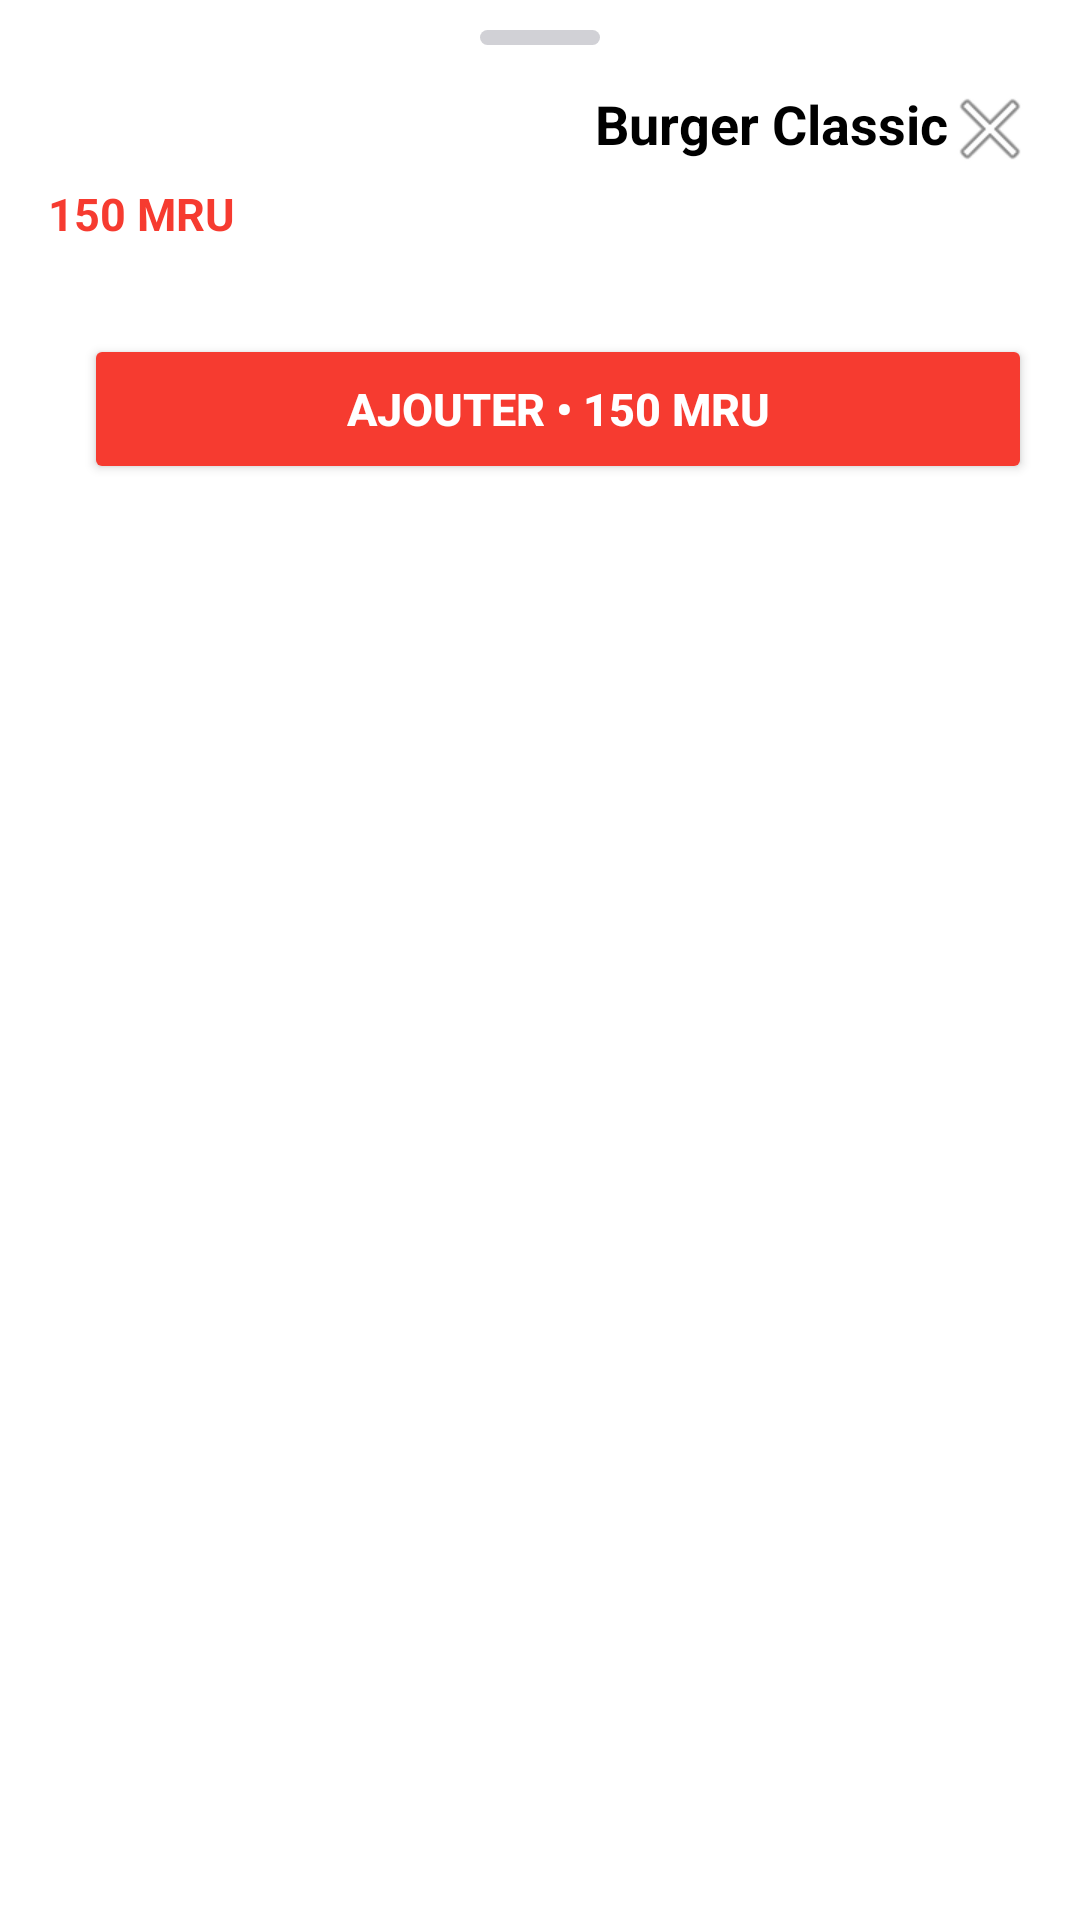

Icons on this 1080px×1920px Android screen, each with its box as (x1, y1, x2, y2):
close clear cancel: (960, 99, 1020, 159)
